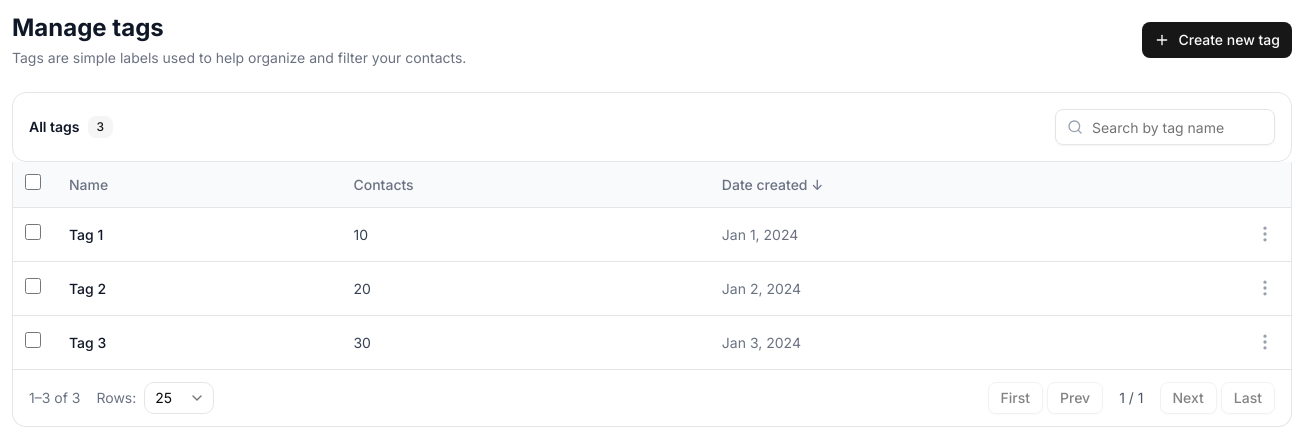
Test case: TagsManager › shows bulk delete button when tags are selected
The image size is (1304, 444).
Click the checkbox next to "Tag 1" at (33,232), box x1=25 y1=224 x2=41 y2=240
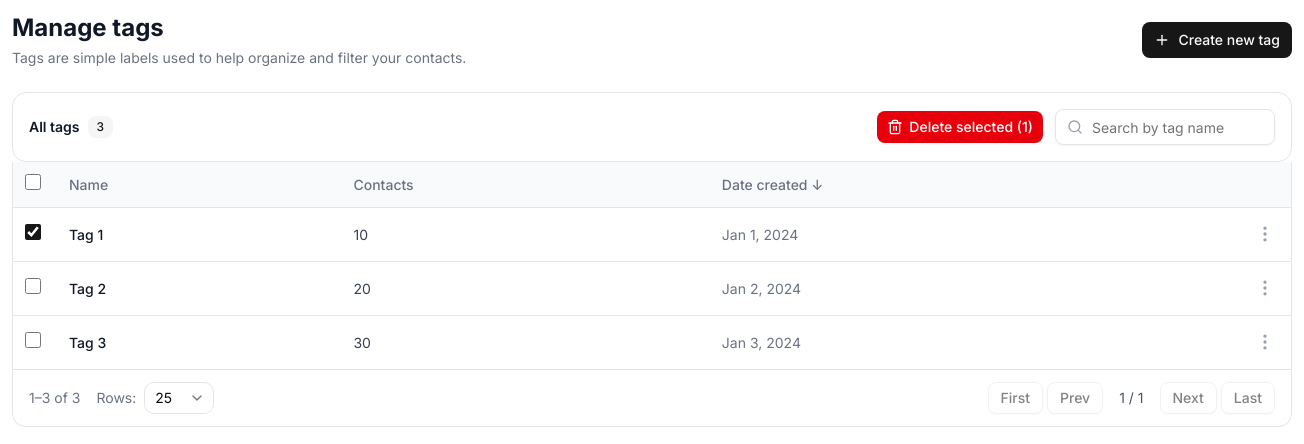
Now the button "Delete selected (1)" is shown, box x1=877 y1=111 x2=1043 y2=143
